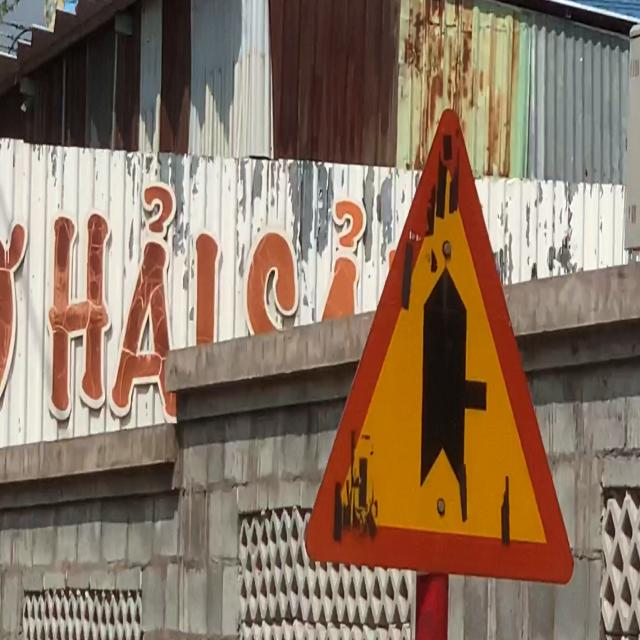Giao voi duong khong uu tien: (300, 100, 578, 591)
